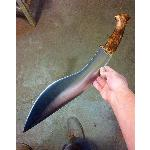Golok: (18, 8, 136, 136)
